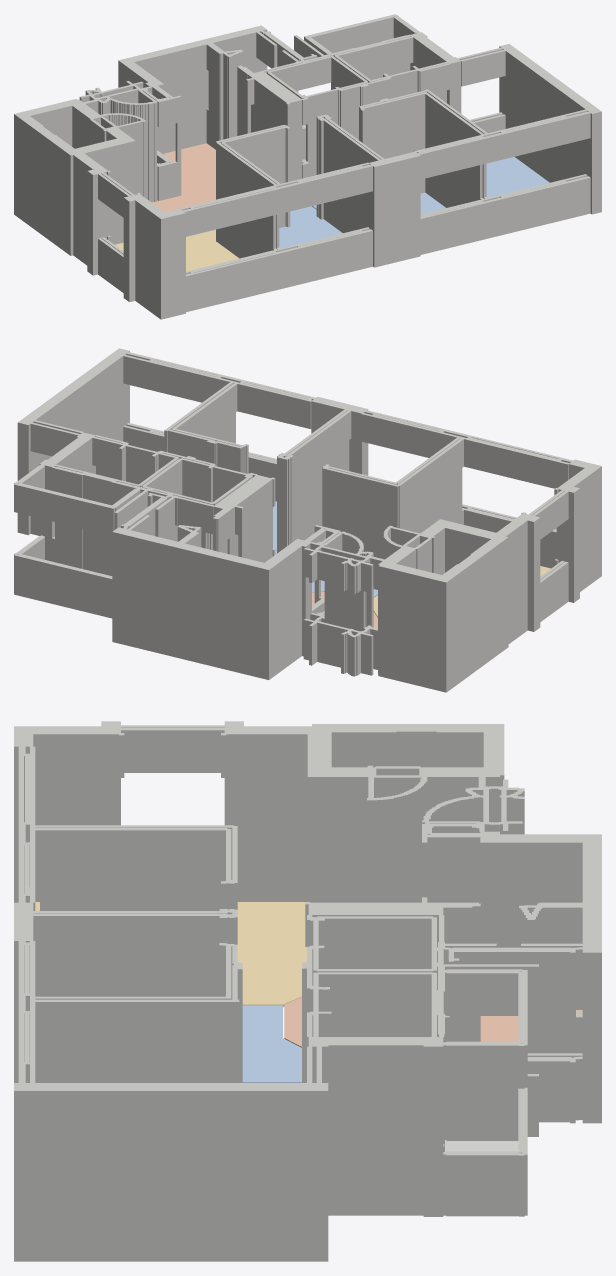
The picture shows the model from 3 angles, top to bottom: view 1: azimuth 30°, elevation 25°; view 2: azimuth 150°, elevation 25°; view 3: azimuth 270°, elevation 25°; orthographic projection. The views are drawn at different scales.
Visible parts, largest first — view 1: walls, room:kitchen:0, room:bedroom:9, room:bedroom:5, room:living:4; view 2: walls; view 3: walls, room:living:4, room:bedroom:5, room:kitchen:0, room:ledge:7.
Part boxes in pixels (box(x1,y1,x2,y2)): walls: box(14, 14, 601, 319); room:kitchen:0: box(151, 143, 215, 212); room:bedroom:9: box(486, 157, 549, 197); room:bedroom:5: box(279, 206, 342, 248); room:living:4: box(115, 229, 239, 271); walls: box(14, 348, 601, 692); walls: box(14, 721, 601, 1261); room:living:4: box(35, 902, 306, 1007); room:bedroom:5: box(242, 1005, 301, 1082); room:kitchen:0: box(284, 997, 582, 1047); room:ledge:7: box(445, 1140, 518, 1151).
Size of the model in its own units: 13.02 by 2.8 by 8.75.
